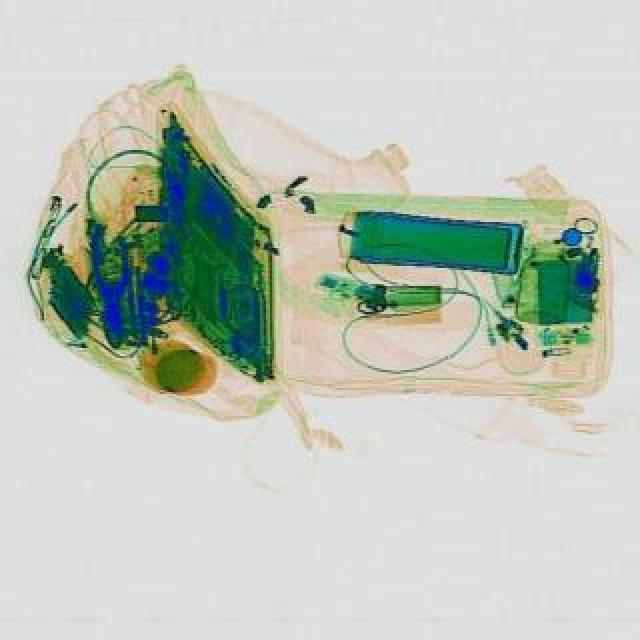wrench: (90, 224, 138, 348)
